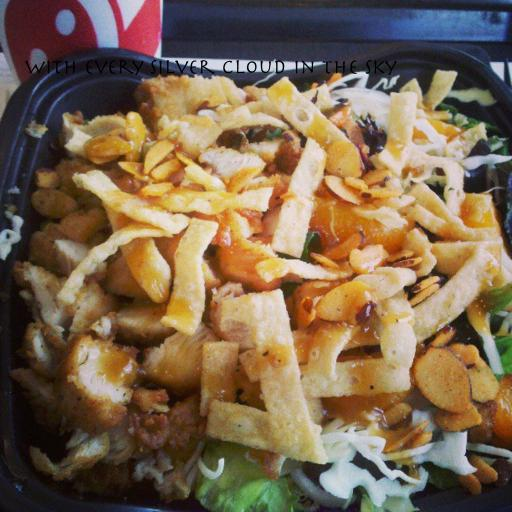Herculanum: (25, 59, 397, 76)
